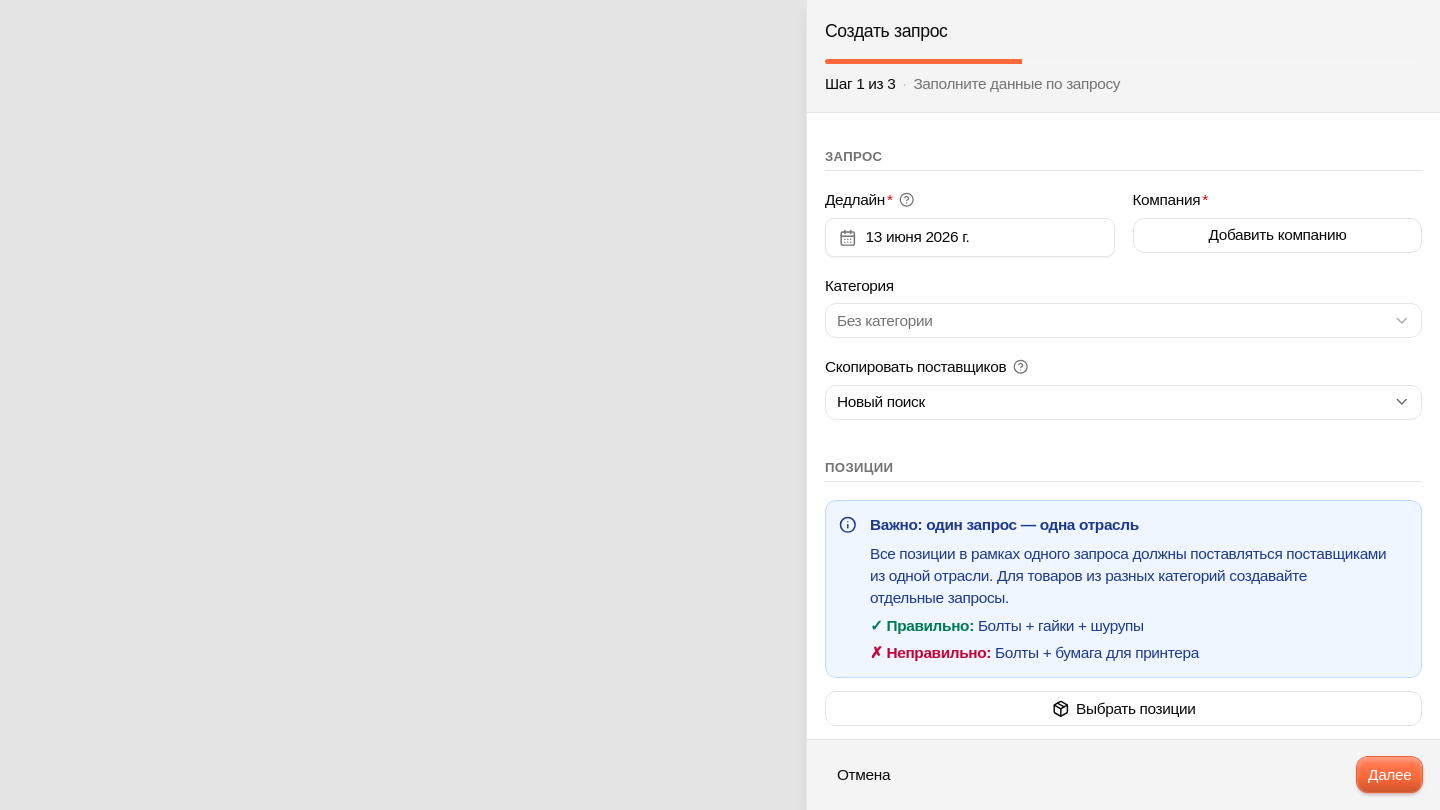
Scenario: CreateProcurementInquiryDrawer — zero companies › clicking «Добавить компанию» opens the nested CompanyCreationSheet
Click the button "Добавить компанию".
click(1277, 235)  # box x1=1132 y1=218 x2=1422 y2=253
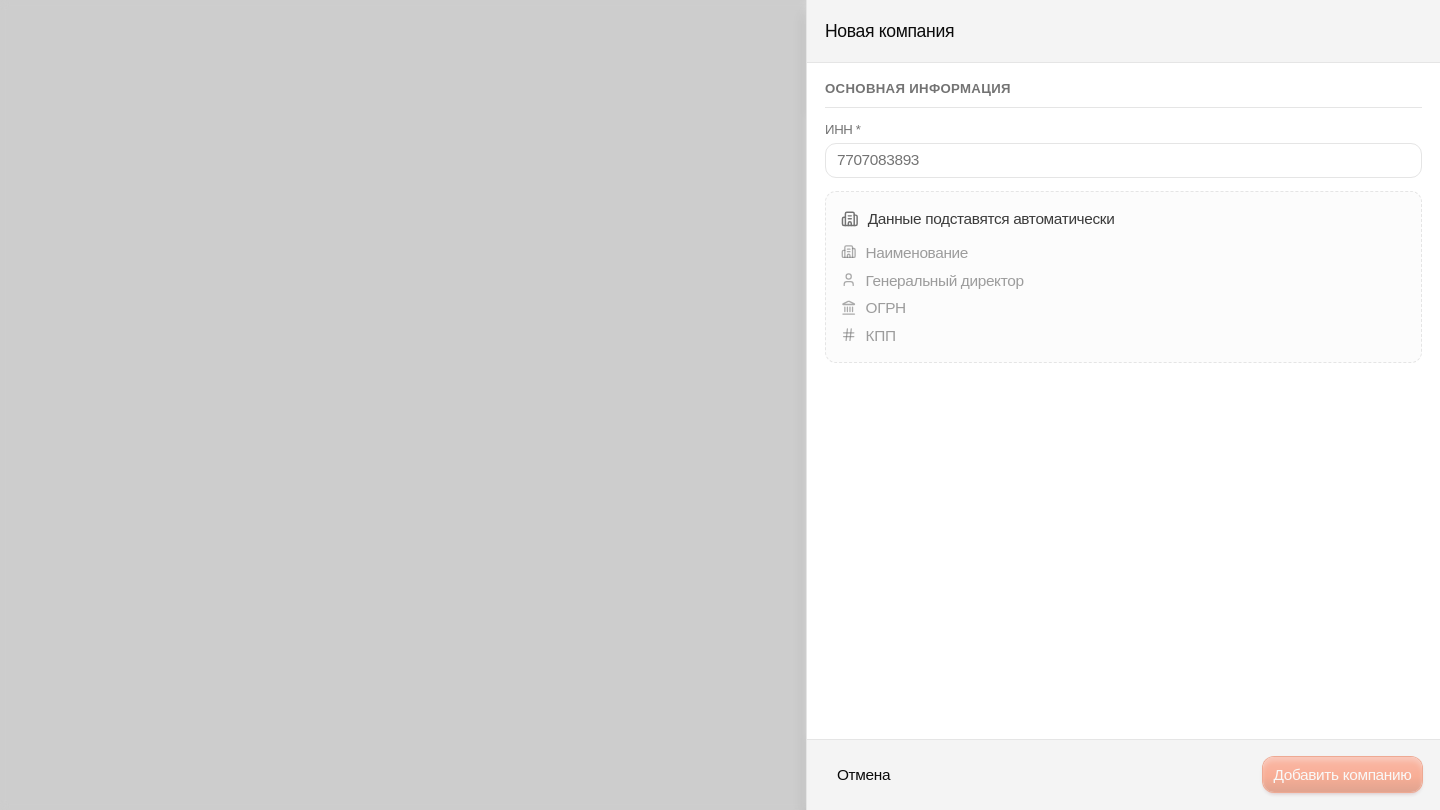
Expected: the heading "Новая компания" is shown, x1=825 y1=21 x2=954 y2=41
